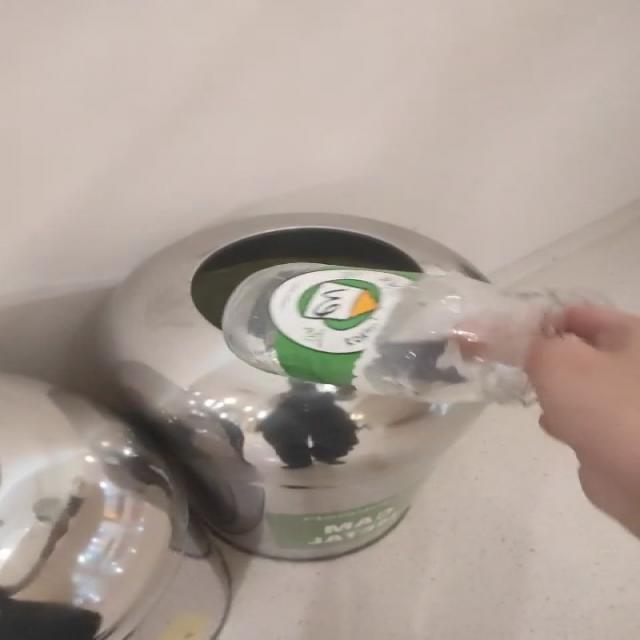glass: (223, 263, 564, 410)
